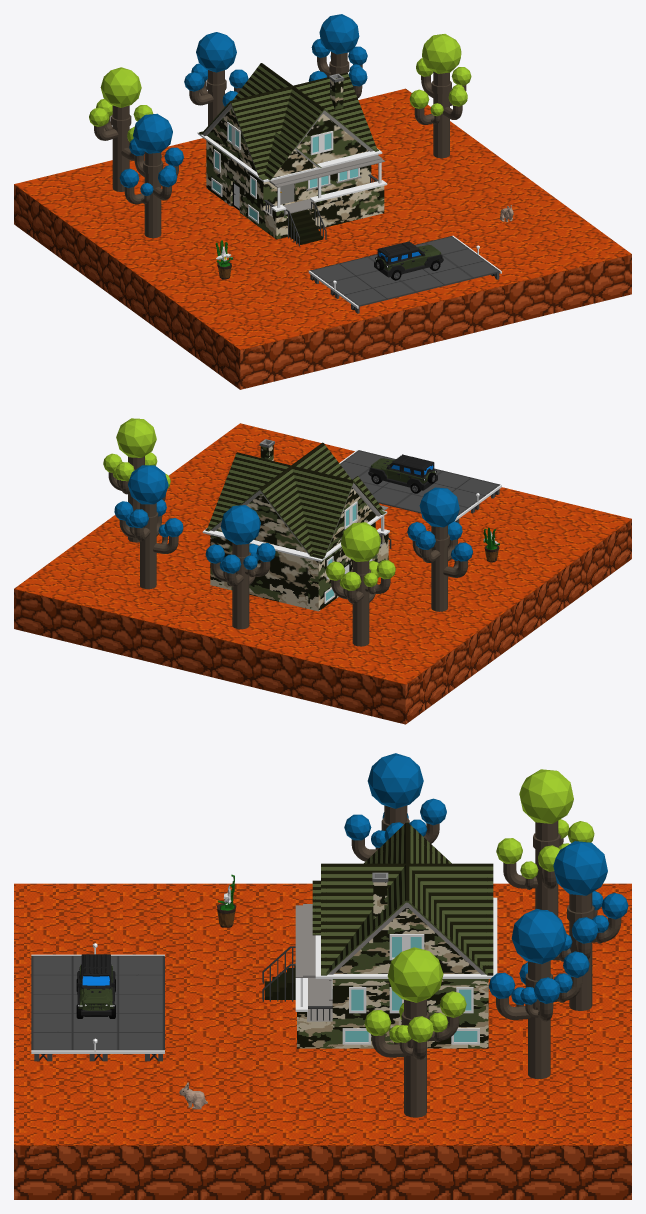
3 views of the same model, one above another, from view 1: azimuth 30°, elevation 25°; view 2: azimuth 150°, elevation 25°; view 3: azimuth 270°, elevation 25° (orthographic). The views are drawn at different scales.
Visible parts, largest first — view 1: Cube.001, Cube.002, VEHICLES_JEEP; view 2: Cube.001, Cube.002, VEHICLES_JEEP; view 3: Cube.001, Cube.002, VEHICLES_JEEP.
Part boxes in pixels (<box>): Cube.001: <box>14,14,631,389</box>; Cube.002: <box>197,63,387,246</box>; VEHICLES_JEEP: <box>374,241,443,280</box>; Cube.001: <box>14,418,631,724</box>; Cube.002: <box>202,439,391,611</box>; VEHICLES_JEEP: <box>368,454,437,493</box>; Cube.001: <box>14,753,631,1199</box>; Cube.002: <box>262,822,497,1048</box>; VEHICLES_JEEP: <box>76,954,115,1018</box>.
Bounding box in the file's own units: 4000 × 1667 × 4000.
Materials: 36 (6 with a texture image).
